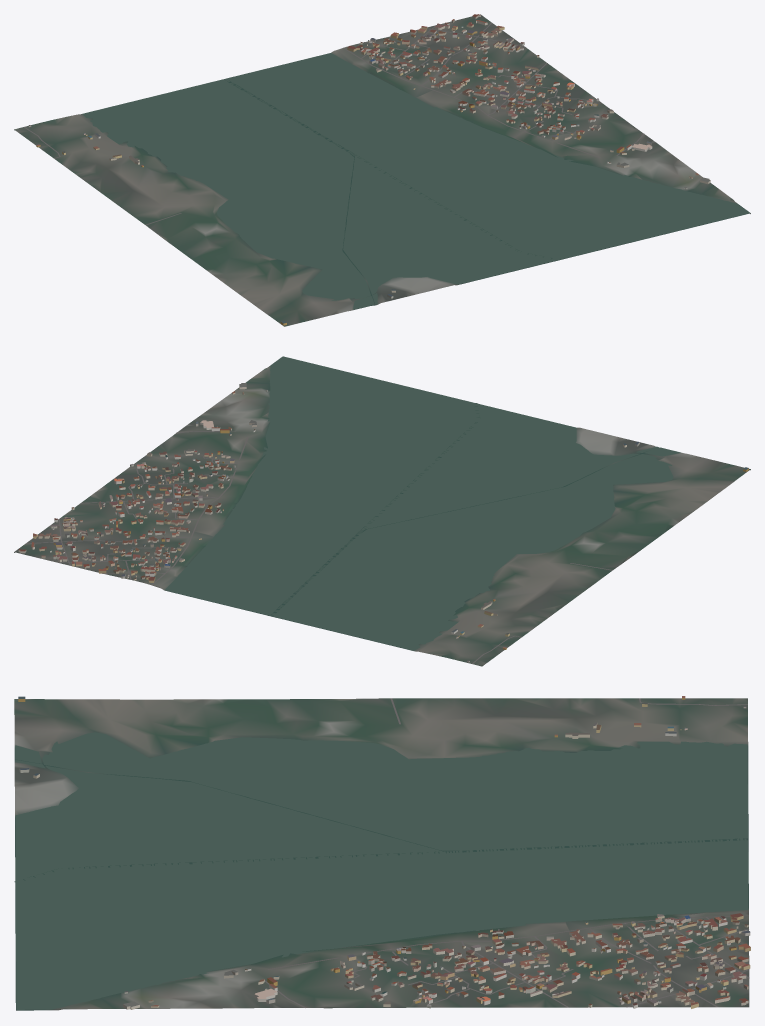
3 renders of one model, top to bottom at view 1: azimuth 30°, elevation 25°; view 2: azimuth 150°, elevation 25°; view 3: azimuth 270°, elevation 25°, orthographic. The views are drawn at different scales.
Visible parts, largest first — view 1: water, ground, buildings, roads; view 2: water, ground, buildings, roads; view 3: water, ground, buildings, roads.
Boxes of the visible parts, x1,y1,x2,y2 form: water: (82,53,749,309); ground: (14,14,750,326); buildings: (28,14,710,325); roads: (23,22,644,225); water: (165,356,680,650); ground: (14,357,750,666); buildings: (18,383,748,662); roads: (25,431,612,664); water: (14,732,748,1009); ground: (14,698,749,1010); buildings: (18,696,750,1009); roads: (262,698,749,1007).
Bounding box in the file's own units: 1413 × 19.14 × 1408.
